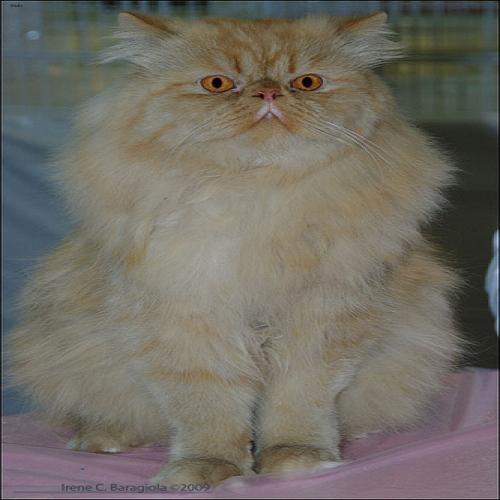persian: (95, 3, 412, 186)
